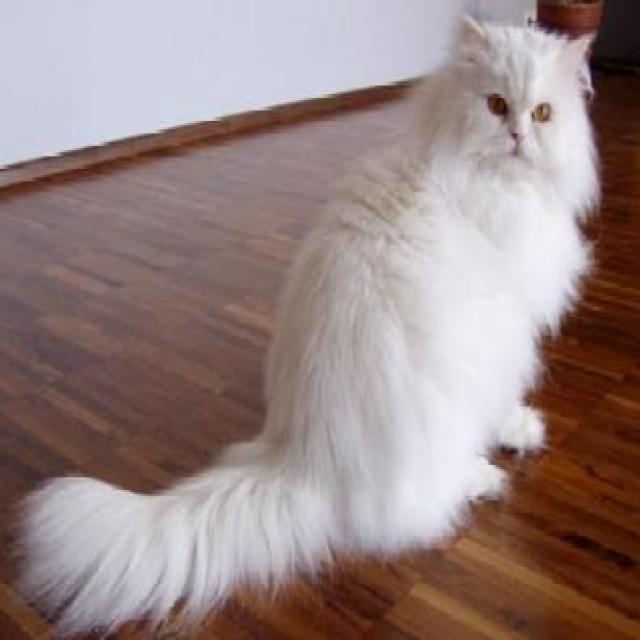Persian: (444, 9, 598, 194)
